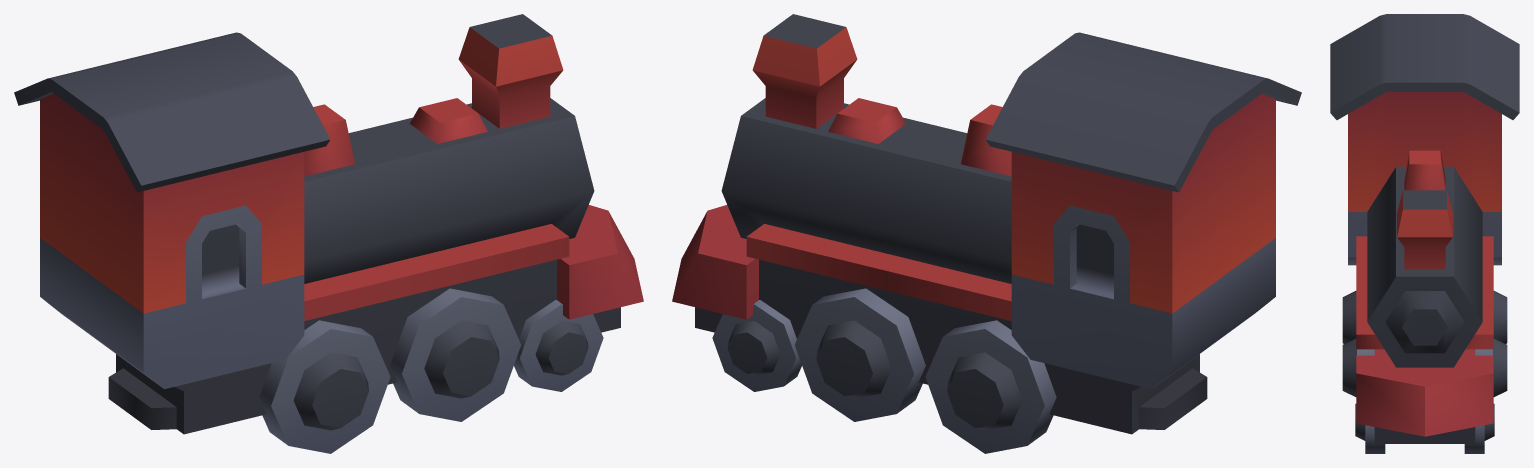
File: train-locomotive.glb
3 views of the same model, side by side, from view 1: azimuth 30°, elevation 25°; view 2: azimuth 150°, elevation 25°; view 3: azimuth 270°, elevation 25° (orthographic). The views are drawn at different scales.
Visible parts, largest first — view 1: train-locomotive; view 2: train-locomotive; view 3: train-locomotive.
Boxes of the visible parts, box(x1,y1,x2,y2) form: train-locomotive: box(14, 14, 643, 453); train-locomotive: box(672, 14, 1301, 453); train-locomotive: box(1330, 14, 1519, 453).
Bounding box in the file's own units: 0.6695 × 0.4283 × 0.2652.
